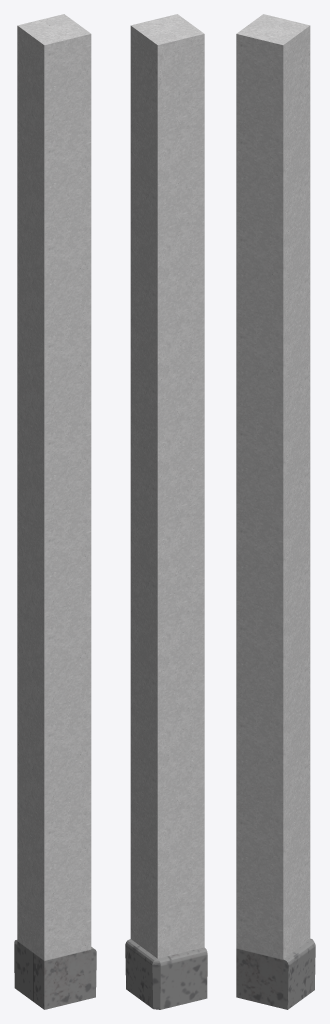
Rendered from fbx_Modular_Wall_Corner.fbx.
The picture shows the model from 3 angles, left to right: view 1: azimuth 30°, elevation 25°; view 2: azimuth 210°, elevation 25°; view 3: azimuth 330°, elevation 25°; orthographic projection.
Visible parts, largest first — view 1: polySurfaceShape44; view 2: polySurfaceShape44; view 3: polySurfaceShape44.
Part boxes in pixels (x1=…): polySurfaceShape44: x1=14, y1=14, x2=96, y2=1009; polySurfaceShape44: x1=125, y1=14, x2=207, y2=1009; polySurfaceShape44: x1=236, y1=14, x2=315, y2=1009.
Bounding box in the file's own units: 0.1671 × 2.94 × 0.1671.
Materials: 2 (2 with a texture image).
